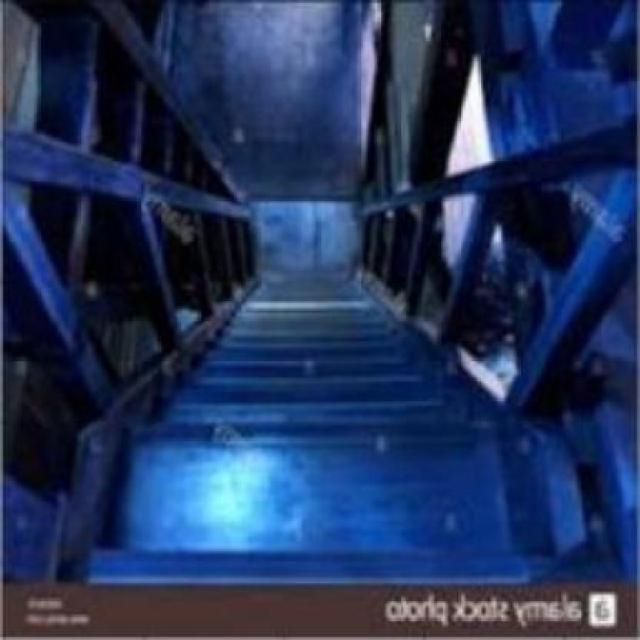stair: (128, 256, 504, 464)
